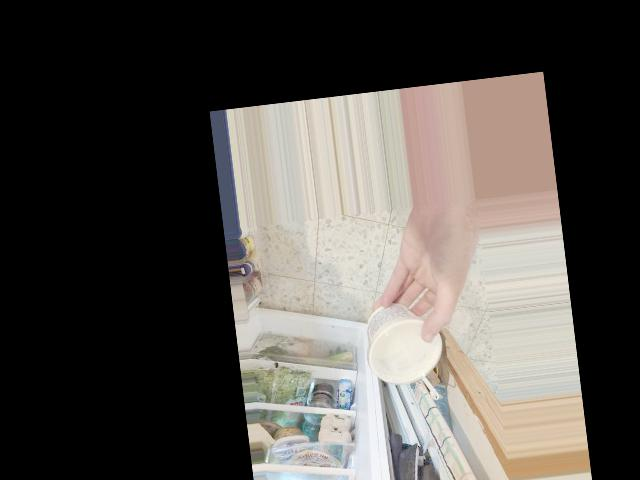cotage: (366, 301, 441, 394)
